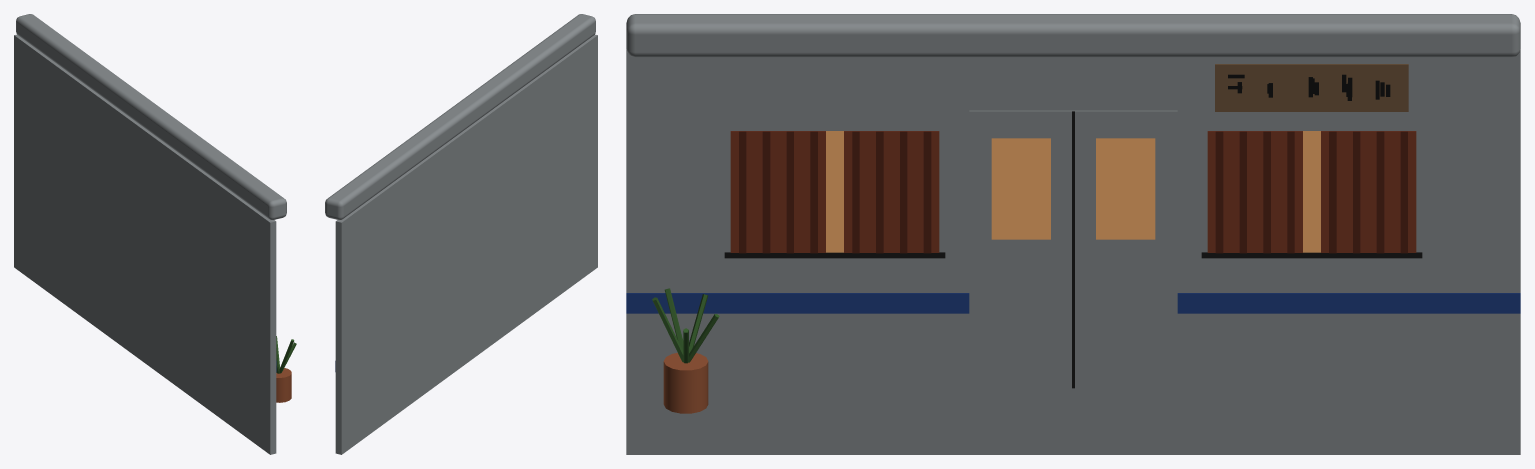
File: metro_dormant_home.glb
3 views of the same model, side by side, from view 1: azimuth 30°, elevation 25°; view 2: azimuth 150°, elevation 25°; view 3: azimuth 270°, elevation 25° (orthographic). The views are drawn at different scales.
Visible parts, largest first — view 1: kasten, dachkante, topf; view 2: kasten, dachkante; view 3: kasten, tuer, dachkante, streifen, schild, vorhang-2.3-1.5399999999999998, vorhang0.90.9, vorhang-2.3-2.3, vorhang0.91.6600000000000001, tuerfenster-1, tuerfenster1, topf (+20 smaller).
Part boxes in pixels (x1,y1,x2,y2): kasten: (14, 34, 276, 454); dachkante: (16, 14, 286, 219); topf: (276, 368, 291, 402); kasten: (335, 34, 597, 454); dachkante: (325, 14, 595, 219); kasten: (626, 49, 1520, 454); tuer: (969, 110, 1177, 387); dachkante: (626, 14, 1520, 57); streifen: (626, 293, 1520, 313); schild: (1215, 64, 1408, 111); vorhang-2.3-1.5399999999999998: (844, 131, 939, 252); vorhang0.90.9: (1207, 131, 1302, 252); vorhang-2.3-2.3: (730, 131, 825, 252); vorhang0.91.6600000000000001: (1321, 131, 1416, 252); tuerfenster-1: (991, 138, 1050, 239); tuerfenster1: (1096, 138, 1155, 239); topf: (663, 352, 708, 413).
Size of the model in its own units: 0.5837 by 3.25 by 6.
